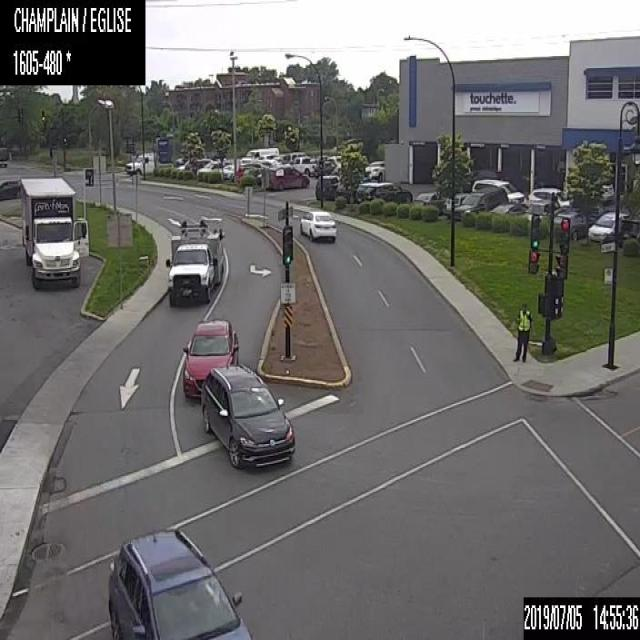pedestrian: (512, 301, 531, 363)
vehicle: (106, 524, 249, 639), (200, 361, 295, 471), (20, 176, 88, 289), (164, 216, 224, 309), (181, 318, 239, 397), (553, 203, 603, 240), (454, 185, 507, 219), (587, 211, 629, 241), (472, 178, 524, 202), (300, 209, 338, 241), (266, 164, 308, 190), (124, 151, 173, 173), (524, 197, 566, 222), (364, 181, 412, 201), (464, 168, 505, 191), (527, 186, 569, 206), (239, 144, 278, 164), (413, 191, 444, 215), (442, 191, 469, 218), (314, 174, 341, 200), (617, 217, 639, 248), (236, 162, 264, 186), (196, 160, 231, 178), (354, 181, 378, 203), (313, 156, 336, 178), (176, 157, 218, 169), (0, 177, 21, 200), (222, 160, 244, 181), (364, 159, 384, 181), (334, 183, 356, 203), (488, 202, 528, 213), (292, 156, 317, 173), (185, 160, 209, 173), (599, 182, 614, 202), (256, 152, 278, 165), (282, 151, 305, 163), (326, 154, 341, 168), (263, 155, 282, 165), (332, 164, 342, 178), (174, 157, 186, 165)
